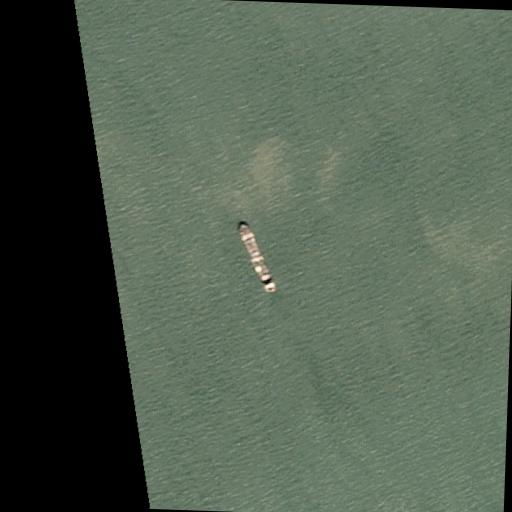ship: (234, 220, 278, 292)
